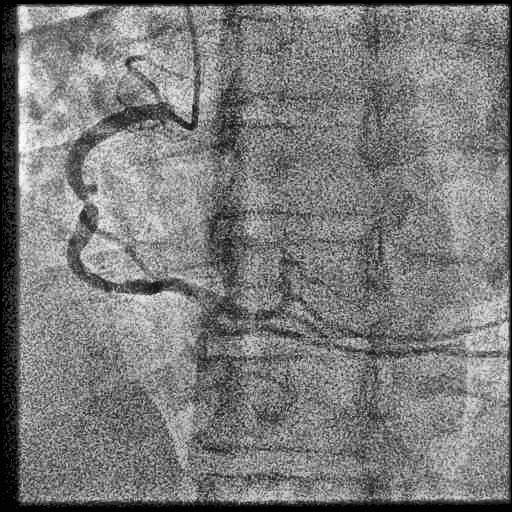pborca: (219, 256, 317, 321)
pda: (204, 314, 509, 359)
rca: (65, 102, 224, 316)
